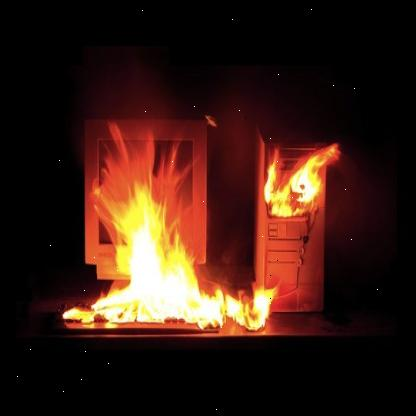fire: (55, 178, 276, 340), (258, 133, 346, 213)
